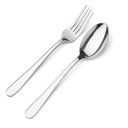fork: (2, 4, 98, 98)
